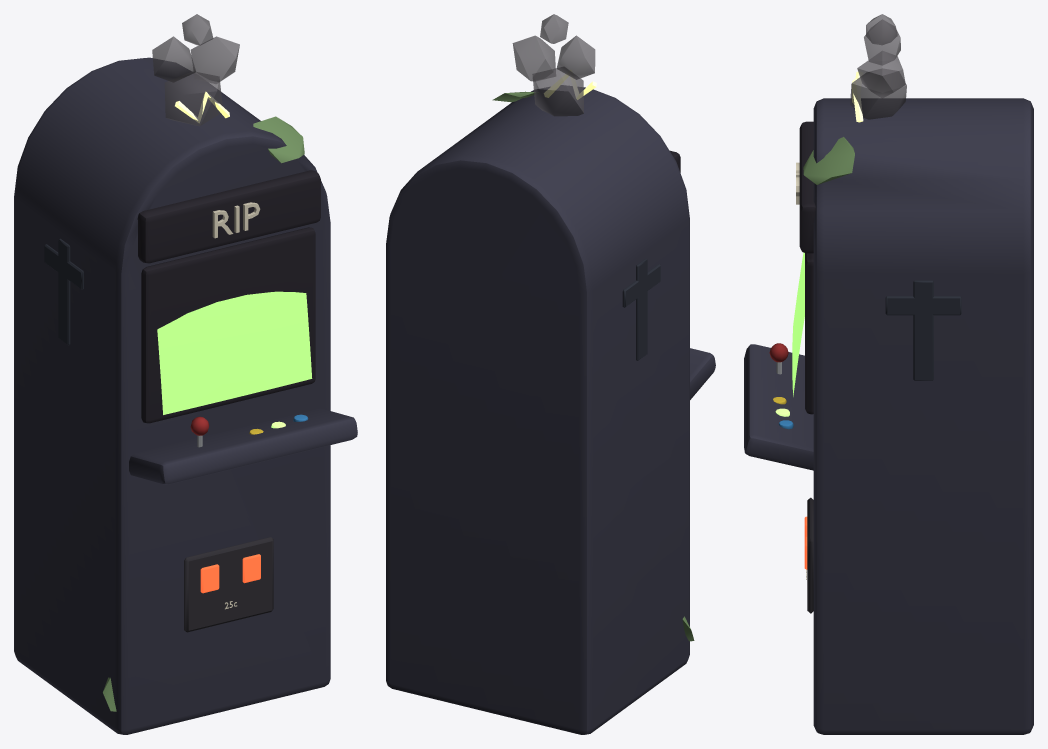
The model's file is arcade_tombstone.glb.
3 renders of one model, left to right at view 1: azimuth 30°, elevation 25°; view 2: azimuth 150°, elevation 25°; view 3: azimuth 270°, elevation 25°, orthographic. The views are drawn at different scales.
Visible parts, largest first — view 1: arcade_tombstone, screen, broken, glow; view 2: arcade_tombstone, broken; view 3: arcade_tombstone, broken, screen.
Part boxes in pixels (bbox=[...]): arcade_tombstone: bbox=[14, 57, 357, 734]; screen: bbox=[157, 291, 312, 414]; broken: bbox=[152, 14, 239, 126]; glow: bbox=[200, 421, 285, 593]; arcade_tombstone: bbox=[386, 85, 715, 734]; broken: bbox=[512, 14, 596, 116]; arcade_tombstone: bbox=[744, 98, 1033, 734]; broken: bbox=[850, 14, 906, 122]; screen: bbox=[792, 252, 804, 396].
Bounding box in the file's own units: 0.7534 × 2.16 × 0.8416.
